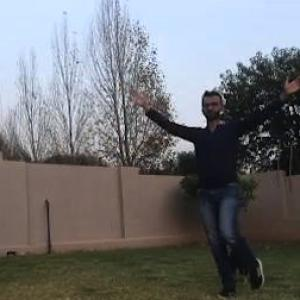takeoff: (164, 93, 300, 294)
